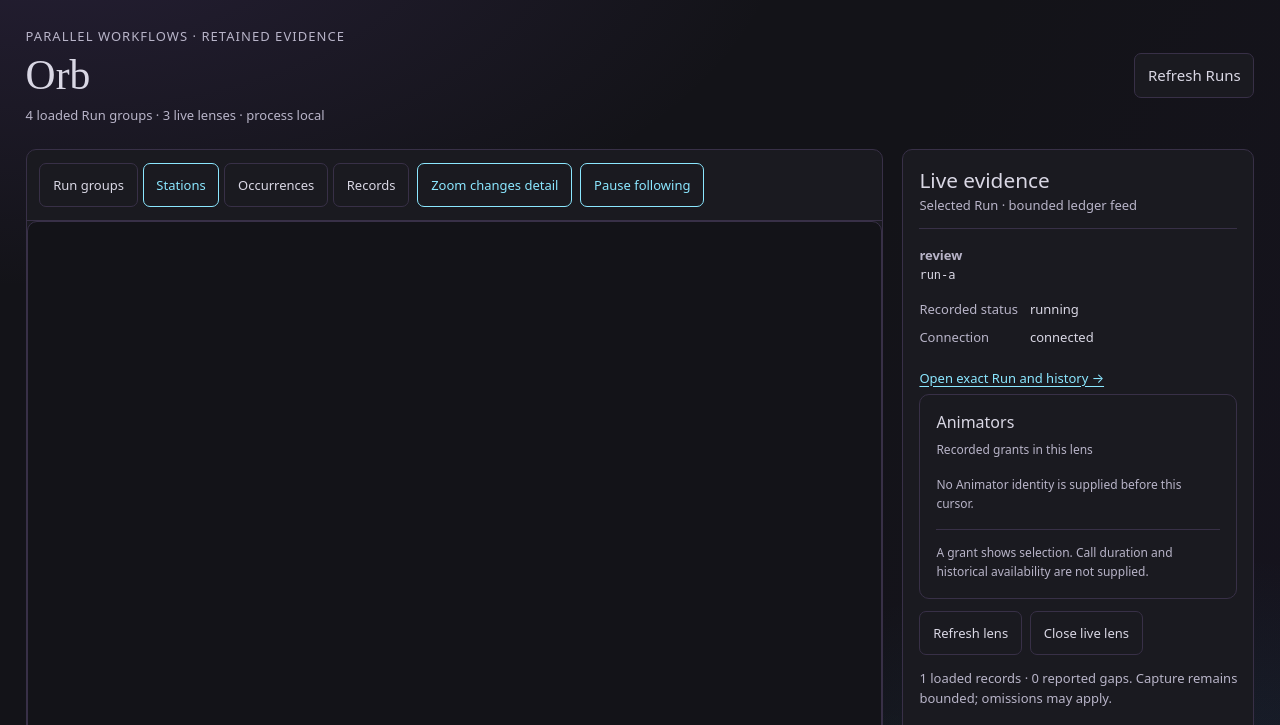
Test: Orb parallel Run field › marks a retained lens closed after a failed refresh and reconnects on retry
The width and height of the screenshot is (1280, 725).
Check: the text "connected" is shown, box [1030,328,1094,346]
Click the button "Refresh lens": (971, 634) [919,612,1022,656]
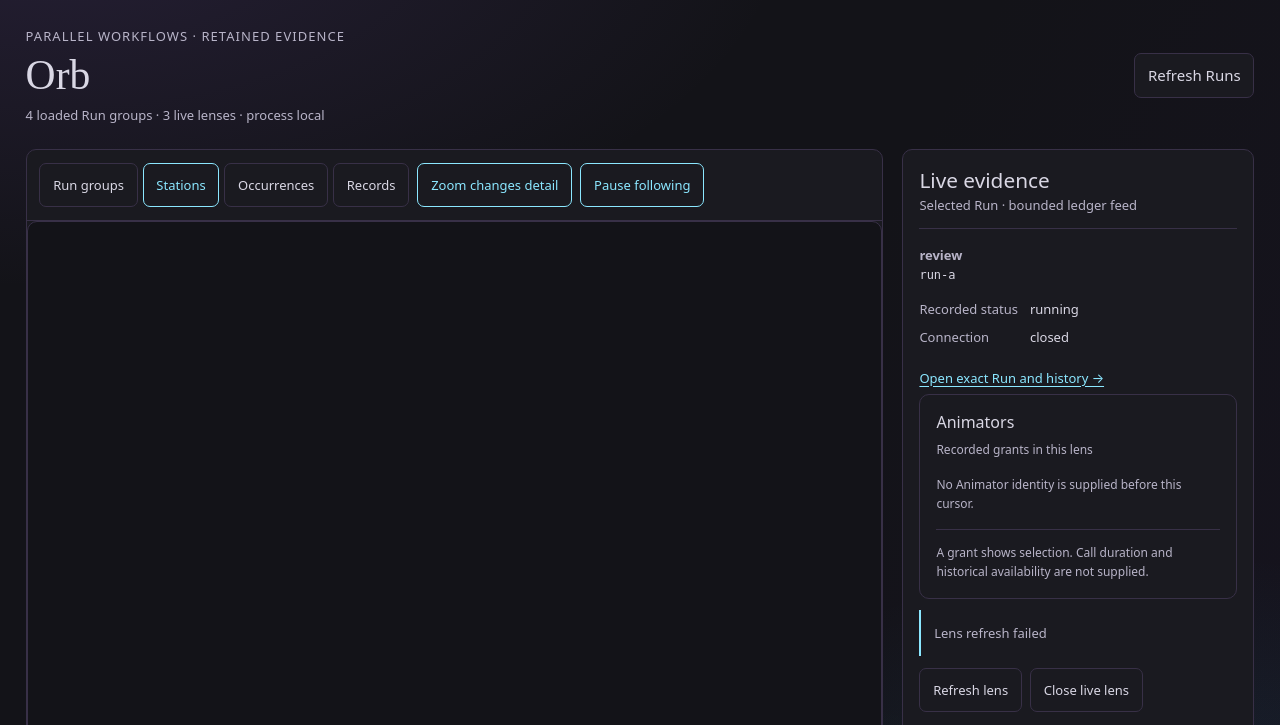
Check: the text "Lens refresh failed" is shown, box [919,610,1237,656]
Check: the text "closed" is shown, box [1030,328,1069,346]
Click the button "Refresh lens": (971, 690) [919,668,1022,712]
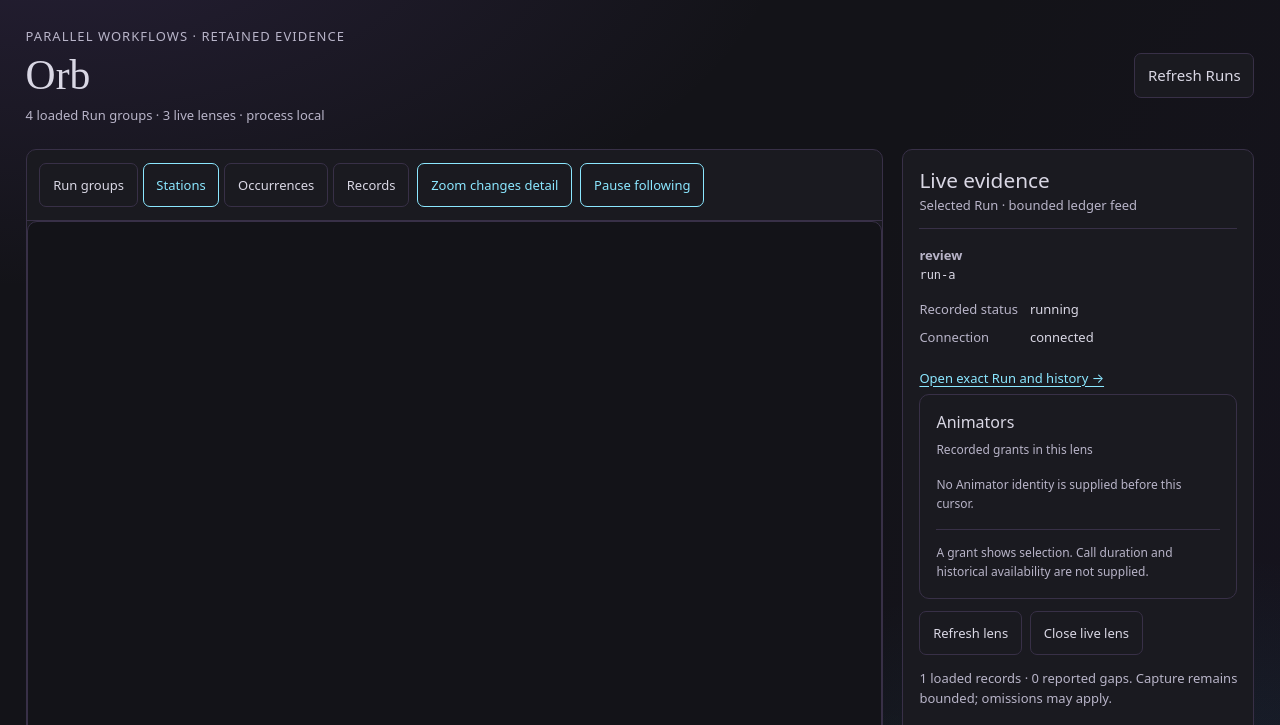
Check: the text "connected" is shown, box [1030,328,1094,346]
Check: the text "Lens refresh failed" is gone
